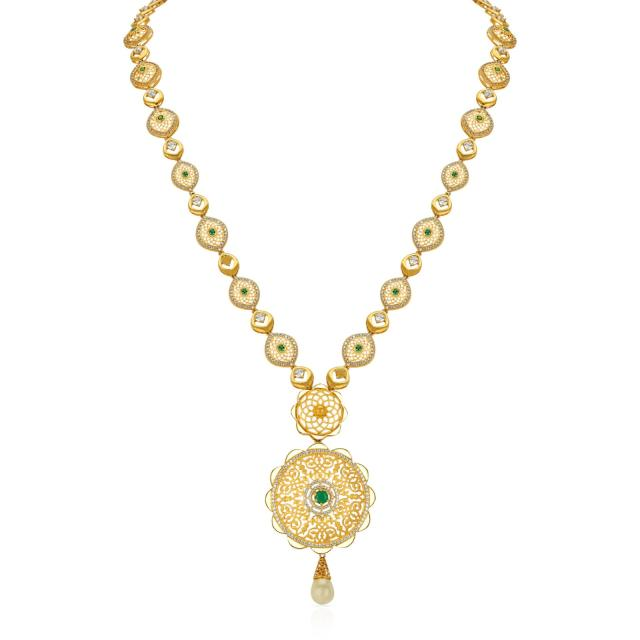missing gem: (336, 369, 346, 378), (221, 255, 231, 264)
